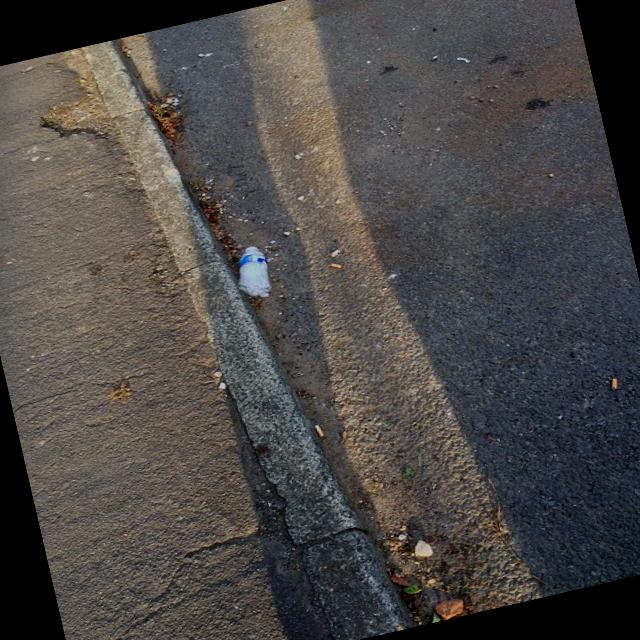Recycle: (232, 241, 279, 303)
Trash: (161, 88, 185, 111), (606, 372, 628, 394), (324, 243, 350, 261), (329, 256, 348, 272)
